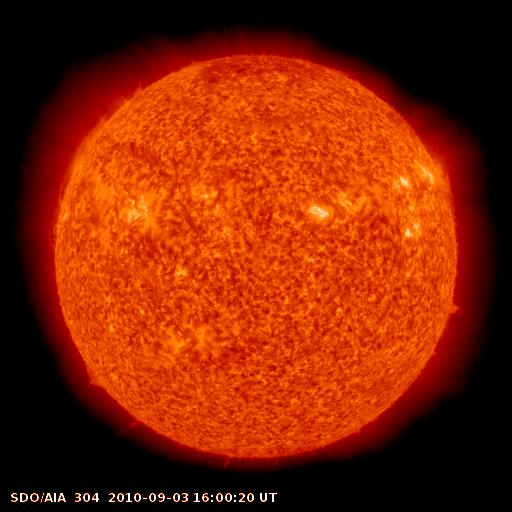prominence: (427, 156, 462, 214), (77, 356, 113, 393), (434, 295, 474, 324)
